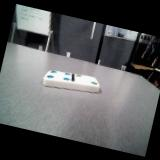domino: (43, 71, 99, 92)
